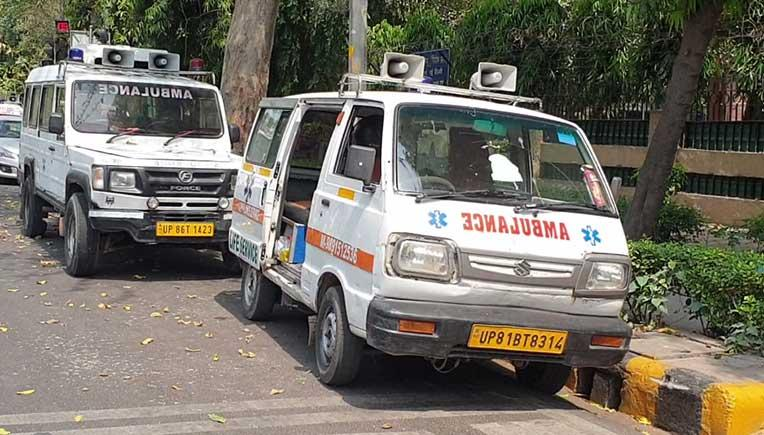Emergency-Vehicles: (253, 23, 659, 404), (9, 6, 250, 290)
